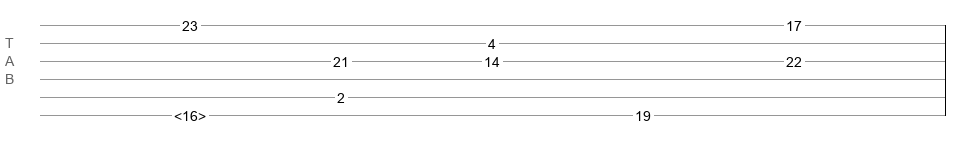14: (484, 54, 500, 64)
17: (786, 18, 802, 28)
19: (635, 108, 651, 118)
2: (337, 90, 345, 100)
21: (333, 54, 349, 64)
22: (786, 54, 802, 64)
23: (182, 18, 198, 28)
4: (488, 36, 496, 46)
harmonic: (174, 108, 206, 118)
